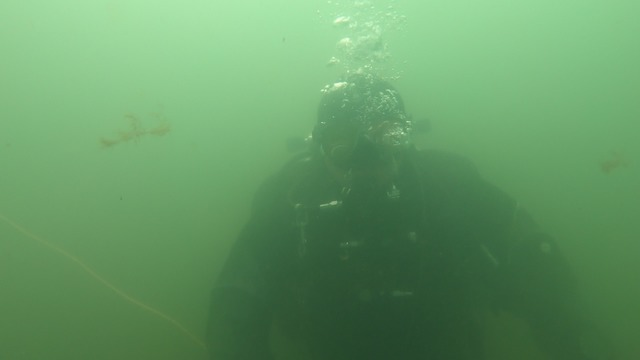Diver: (176, 71, 601, 354)
Head: (303, 68, 436, 215)
